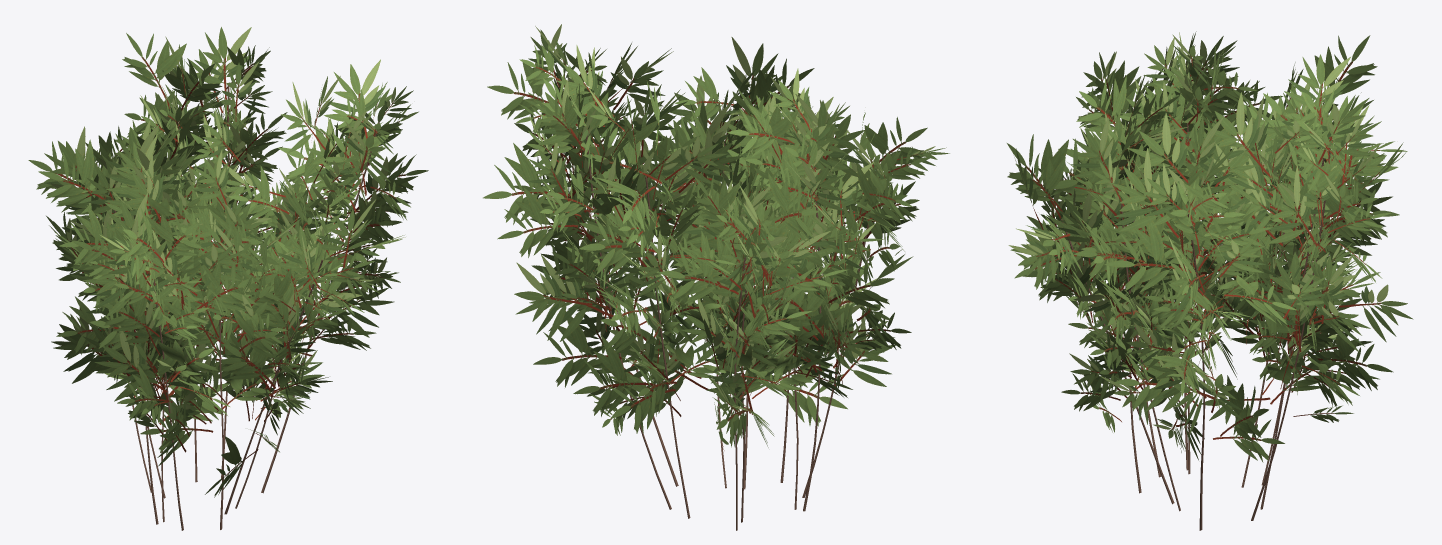
Rendered from bush_07.glb.
The picture shows the model from 3 angles, left to right: view 1: azimuth 30°, elevation 25°; view 2: azimuth 150°, elevation 25°; view 3: azimuth 270°, elevation 25°; orthographic projection. The views are drawn at different scales.
Visible parts, largest first — view 1: mountain_willow_LOD0; view 2: mountain_willow_LOD0; view 3: mountain_willow_LOD0.
Part boxes in pixels (<box>): mountain_willow_LOD0: <box>28,27,428,530</box>; mountain_willow_LOD0: <box>483,24,949,530</box>; mountain_willow_LOD0: <box>1007,31,1413,530</box>.
Bounding box in the file's own units: 1.1 × 1.19 × 0.9527.
2 materials, 2 textured.
